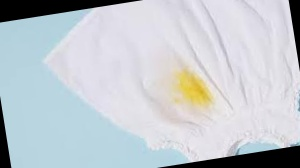mustard: (174, 63, 217, 116)
